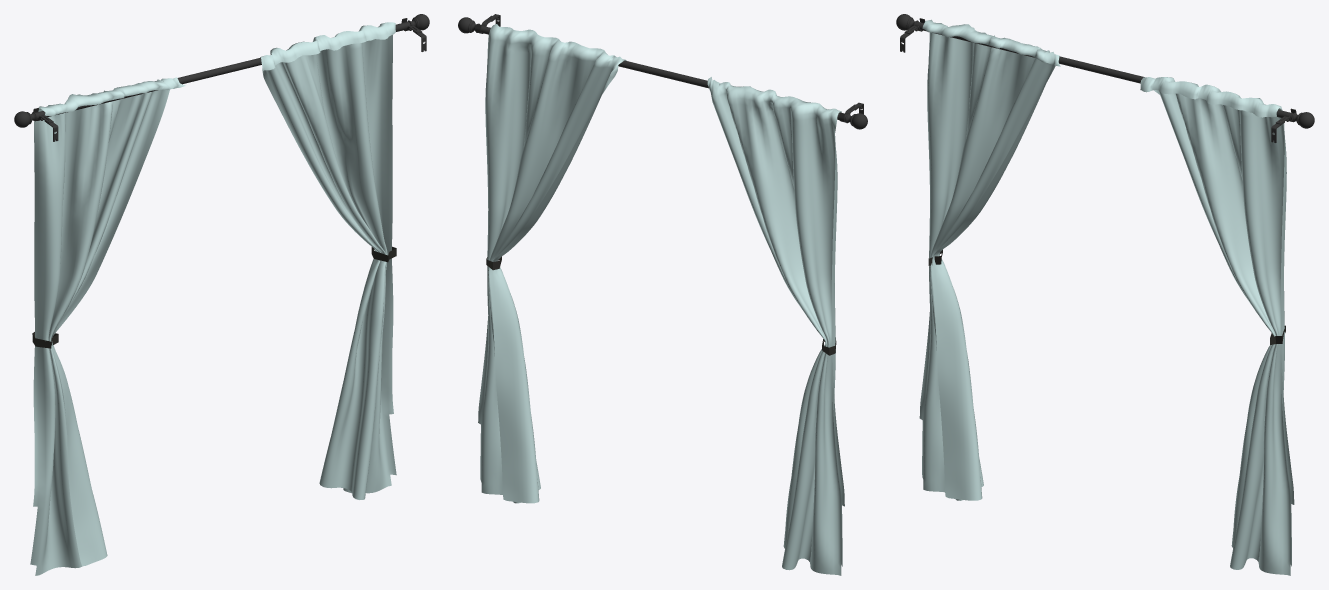
The model's file is curtains.gltf.
3 views of the same model, side by side, from view 1: azimuth 30°, elevation 25°; view 2: azimuth 150°, elevation 25°; view 3: azimuth 330°, elevation 25° (orthographic). The views are drawn at different scales.
Parts seen in each view (by area): view 1: Plane.001, Plane.004, Steel Curtain Rod.001; view 2: Plane.004, Plane.001, Steel Curtain Rod.001; view 3: Plane.004, Plane.001, Steel Curtain Rod.001.
Boxes of the visible parts, <box> form: Plane.001: <box>30,77,185,575</box>; Plane.004: <box>260,22,396,499</box>; Steel Curtain Rod.001: <box>14,14,429,141</box>; Plane.004: <box>478,24,626,503</box>; Plane.001: <box>707,77,844,575</box>; Steel Curtain Rod.001: <box>458,14,867,129</box>; Plane.004: <box>1140,77,1294,575</box>; Plane.001: <box>919,19,1060,500</box>; Steel Curtain Rod.001: <box>896,14,1314,142</box>.
Bounding box in the file's own units: 2.12 × 2.32 × 0.3305.
